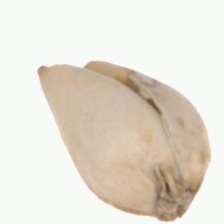L1: (36, 59, 133, 80), (137, 192, 199, 222)
L2: (36, 59, 211, 221)
